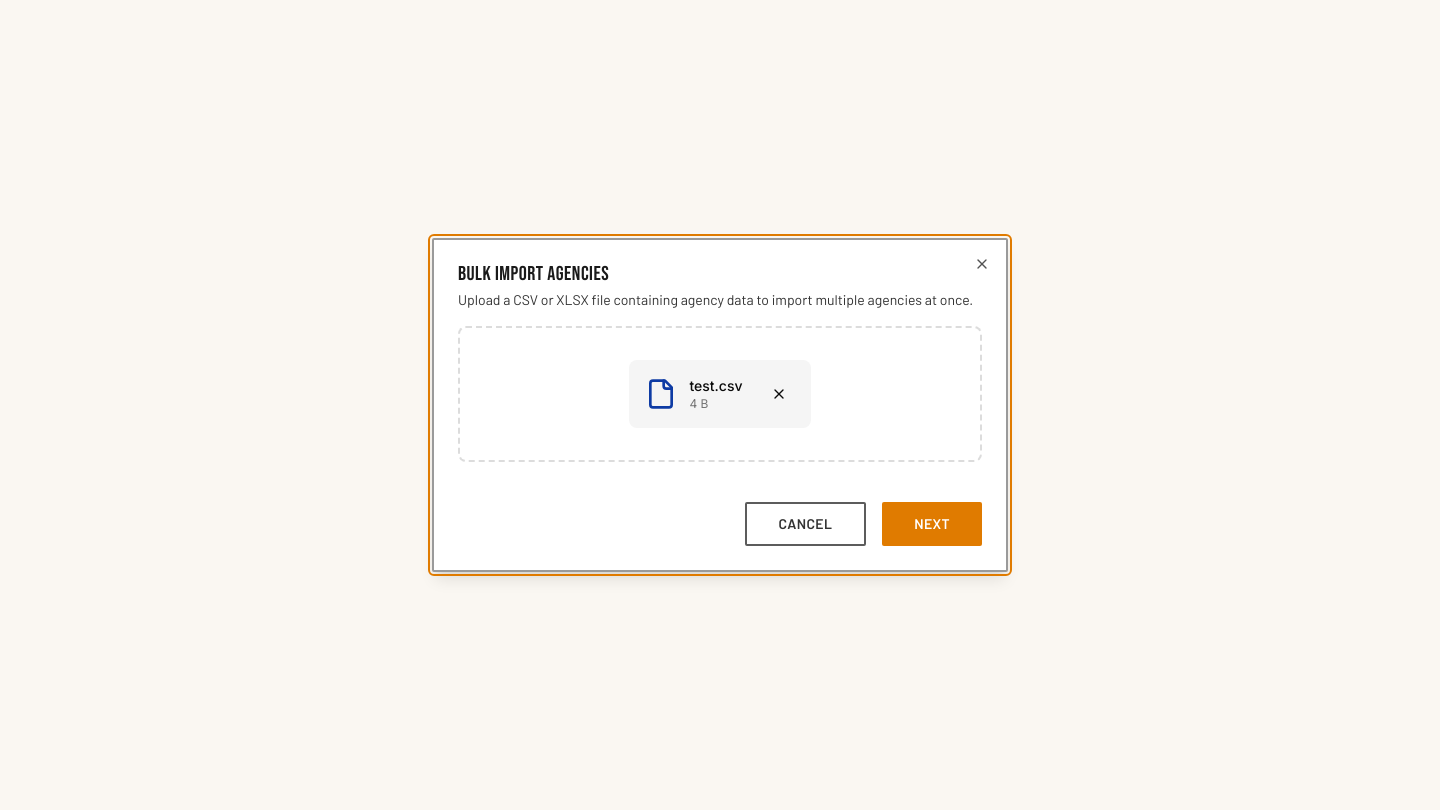
it: BulkImportModal › Next Button Navigation › shows loading state while processing file
Earlier steps of the test are not shown.
What coordinates should you click on to do the following:
click the button with test id "next-button"
I would click on:
 (932, 524)
Its box is 882,502 -> 982,546.
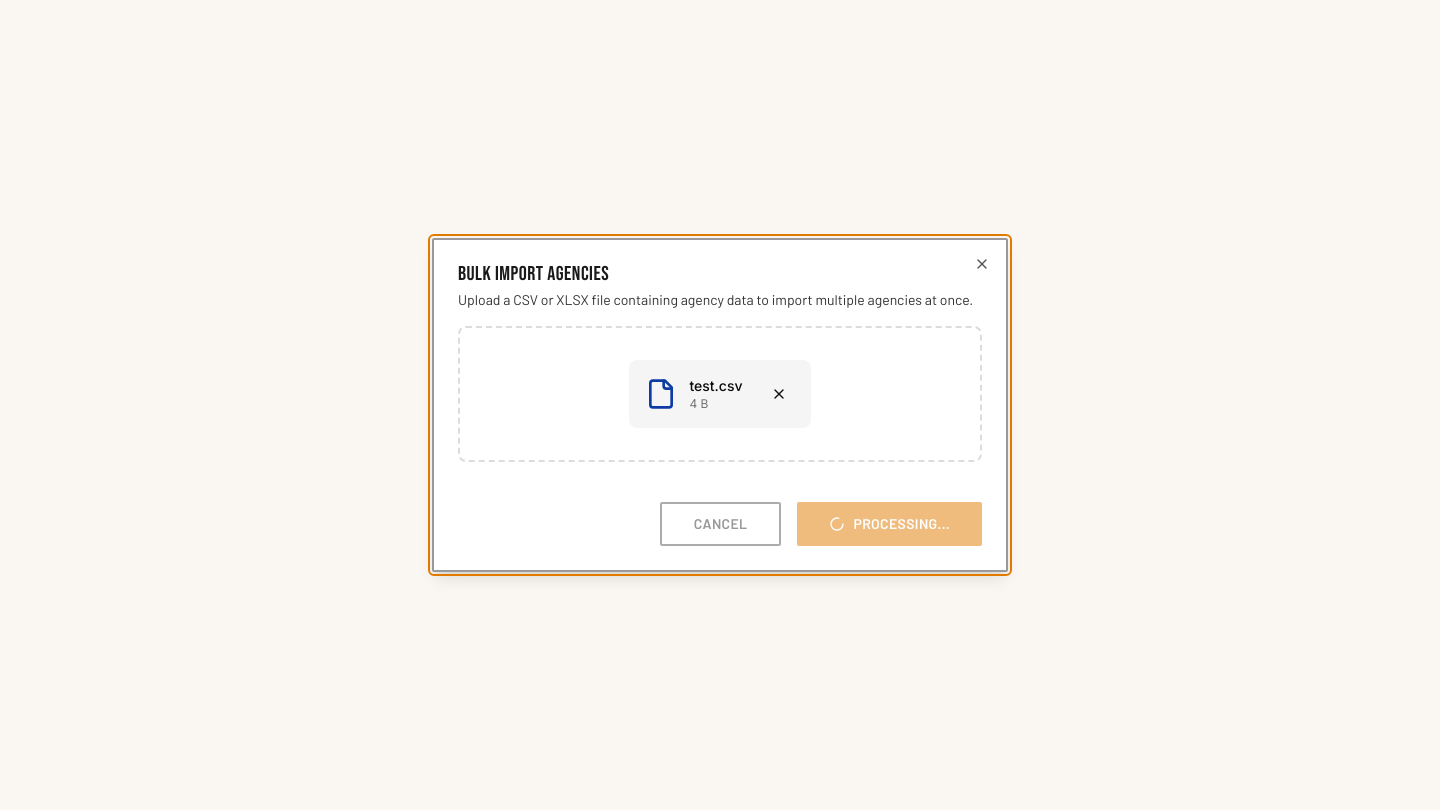
Expected: the button with test id "next-button" reads "Processing...", 798,502 -> 982,546
